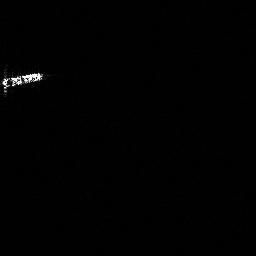ship: (1, 69, 48, 97)
